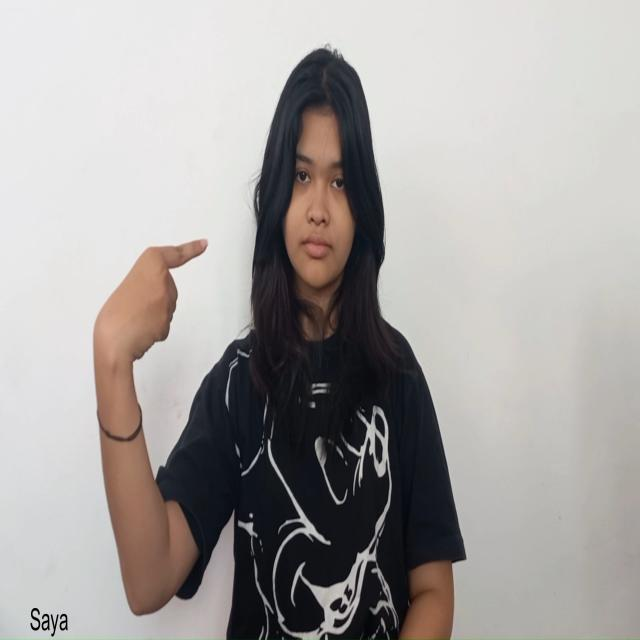Saya -BISINDO-: (90, 232, 209, 390)
